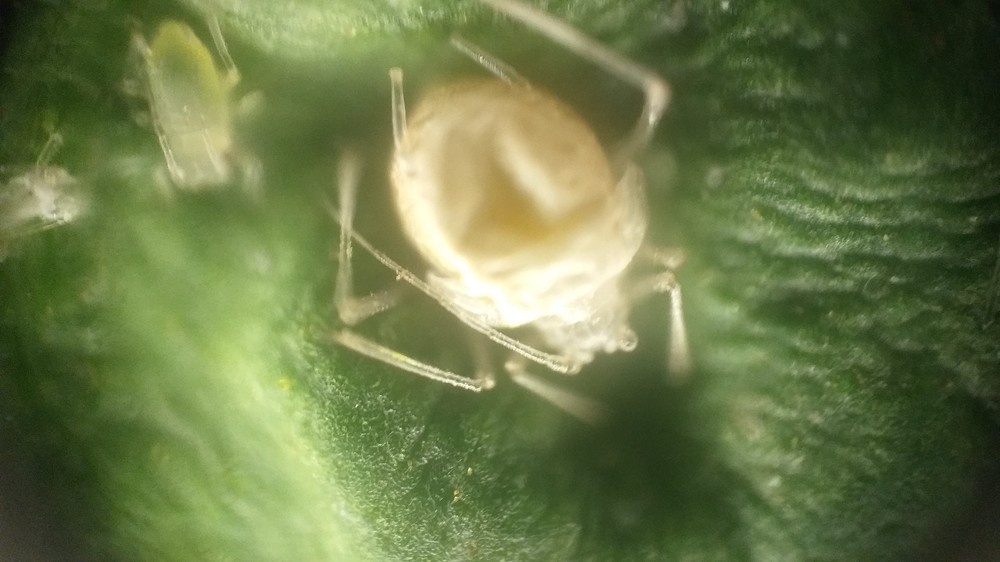Pulgon: (314, 17, 758, 439), (106, 15, 293, 216)
